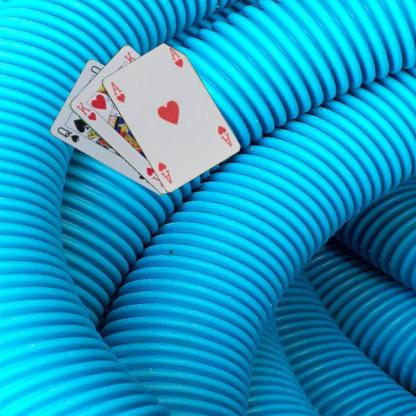Ah: (108, 79, 128, 104), (214, 123, 233, 148)
Kh: (73, 99, 98, 122)
Qs: (54, 124, 80, 144)
